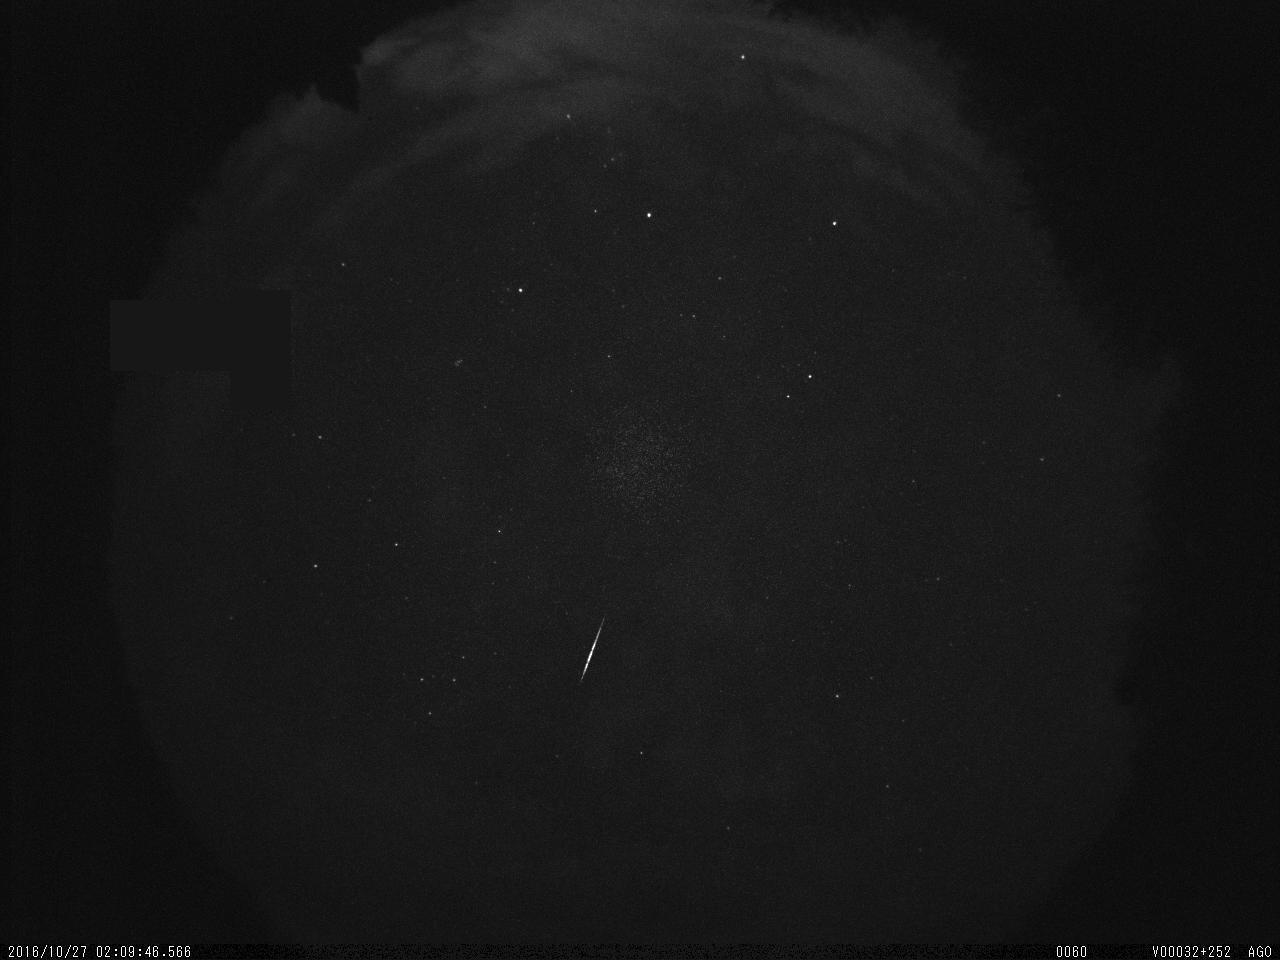meteor: (555, 617, 624, 688)
